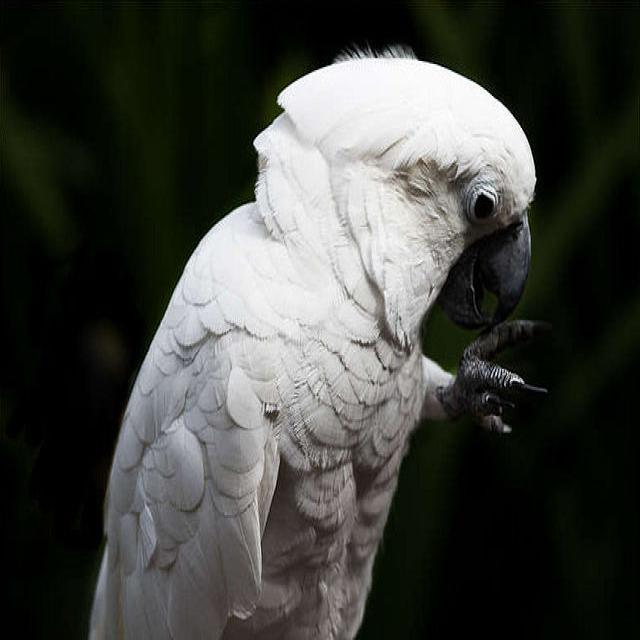Kakatua Putih: (72, 10, 569, 640)
